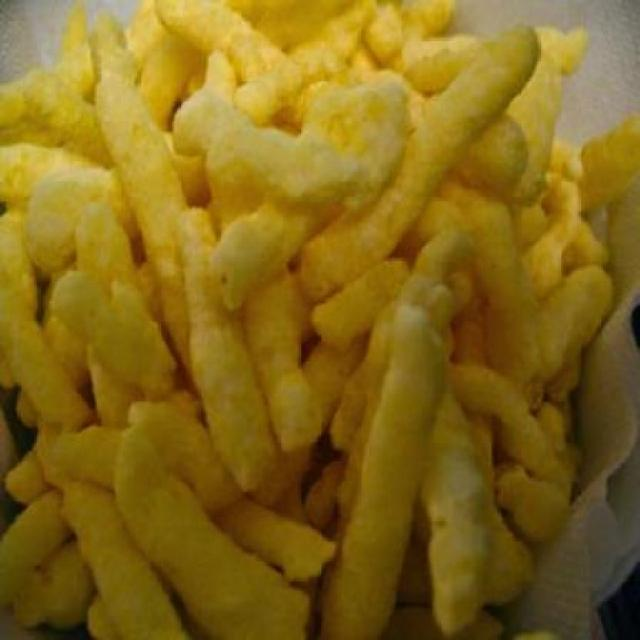Chips packaged: (10, 7, 598, 638)
